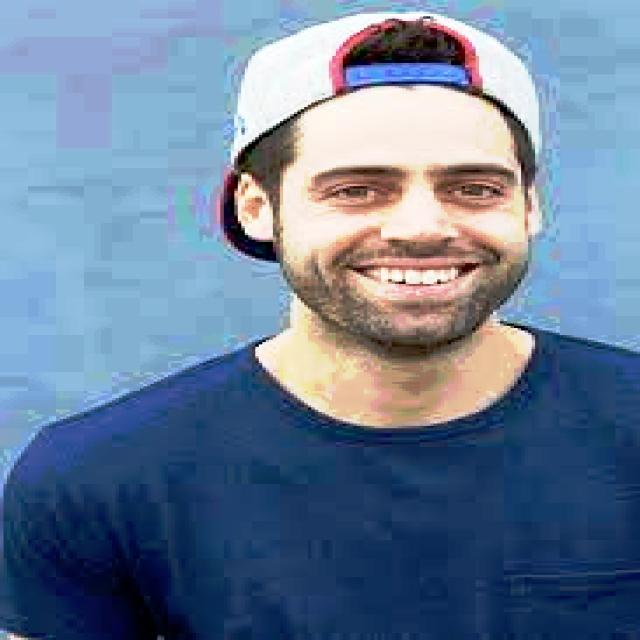TOPI: (176, 0, 572, 171)
